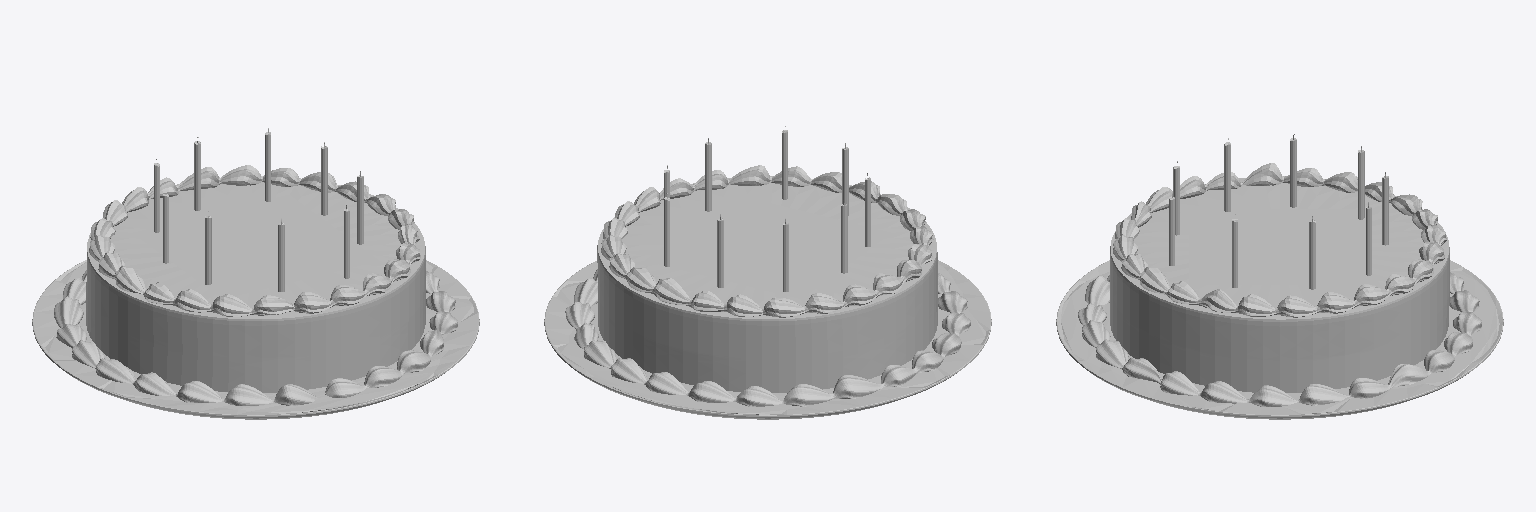
File: birthday_cake_triangle.obj
3 views of the same model, side by side, from view 1: azimuth 30°, elevation 25°; view 2: azimuth 150°, elevation 25°; view 3: azimuth 270°, elevation 25° (orthographic).
Visible parts, largest first — view 1: cake_Cylinder, Plane, yellow-cream_Circle, dish_Cylinder.028, cream_Circle.001; view 2: cake_Cylinder, Plane, yellow-cream_Circle, dish_Cylinder.028, cream_Circle.001; view 3: cake_Cylinder, Plane, yellow-cream_Circle, dish_Cylinder.028, cream_Circle.001.
Boxes of the visible parts, <box> form: cake_Cylinder: <box>86,182,425,392</box>; Plane: <box>133,195,378,295</box>; yellow-cream_Circle: <box>89,165,420,316</box>; dish_Cylinder.028: <box>32,260,479,419</box>; cream_Circle.001: <box>54,270,457,405</box>; cake_Cylinder: <box>597,176,937,392</box>; Plane: <box>645,195,890,298</box>; yellow-cream_Circle: <box>601,165,933,317</box>; dish_Cylinder.028: <box>544,260,991,419</box>; cream_Circle.001: <box>565,269,970,406</box>; cake_Cylinder: <box>1110,176,1449,392</box>; Plane: <box>1189,209,1370,284</box>; yellow-cream_Circle: <box>1113,163,1446,317</box>; dish_Cylinder.028: <box>1056,260,1503,419</box>; cream_Circle.001: <box>1078,272,1481,406</box>.
Bounding box in the file's own units: 0.3565 × 0.1436 × 0.3565.